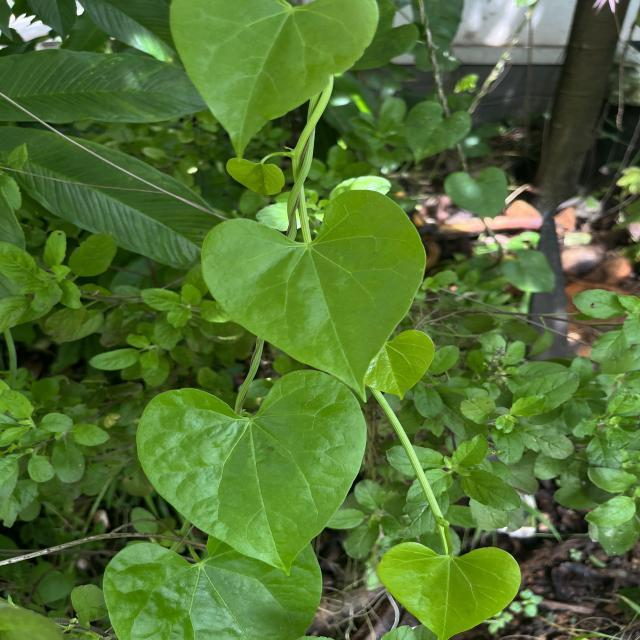Tinospora cordifolia: (199, 186, 430, 405), (134, 366, 370, 580), (166, 1, 383, 164), (374, 538, 525, 640)
